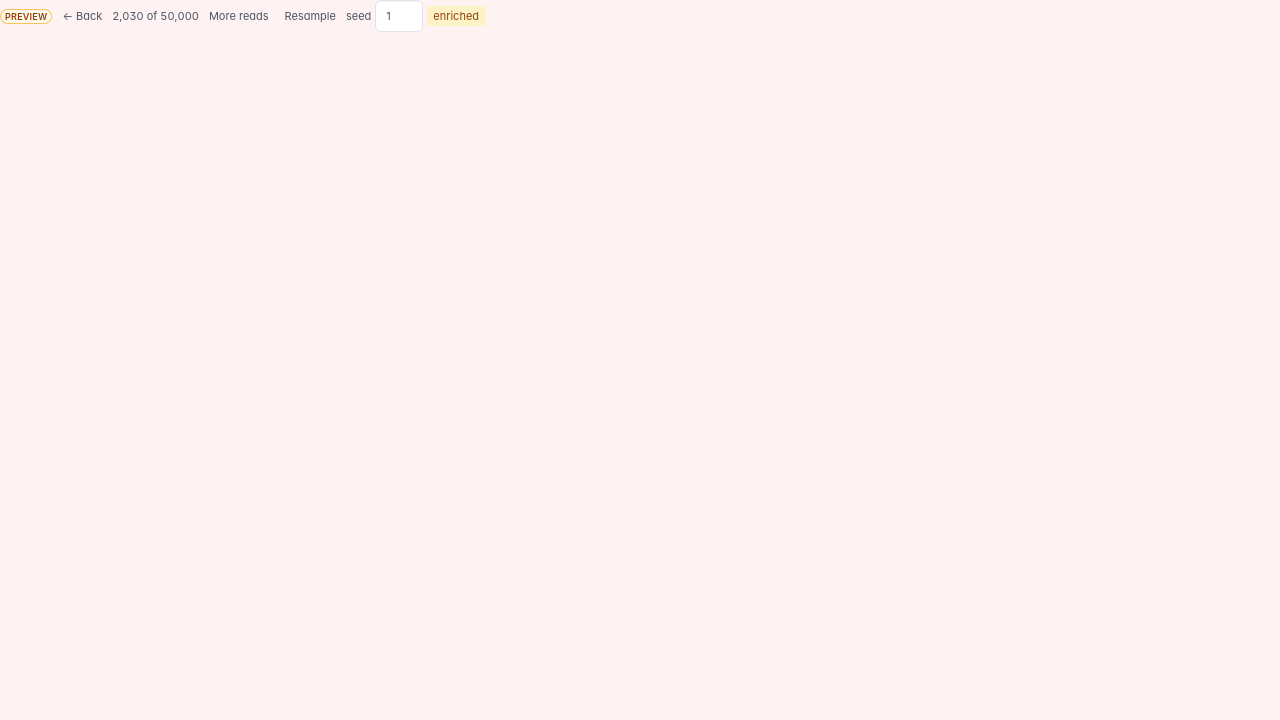
Test: the controls › the working-set control: N of pool, More reads, Resample, seed, Back, enriched badge and clear
Later steps or results of the test are not shown.
Expected: the text "2,030 of 50,000" is shown, [112, 8, 199, 24]
Click the button "enriched": (456, 16) [427, 6, 485, 26]
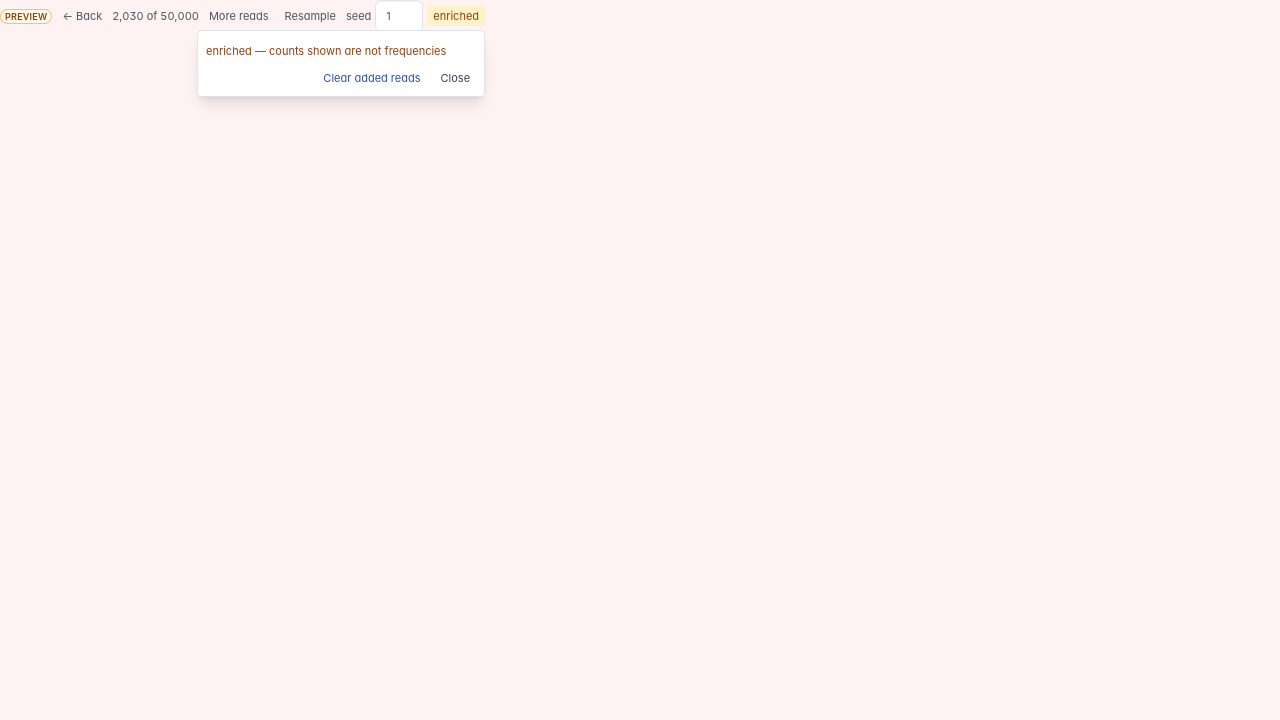
Expected: the text "enriched — counts shown are not frequencies" is shown, [206, 43, 476, 60]
